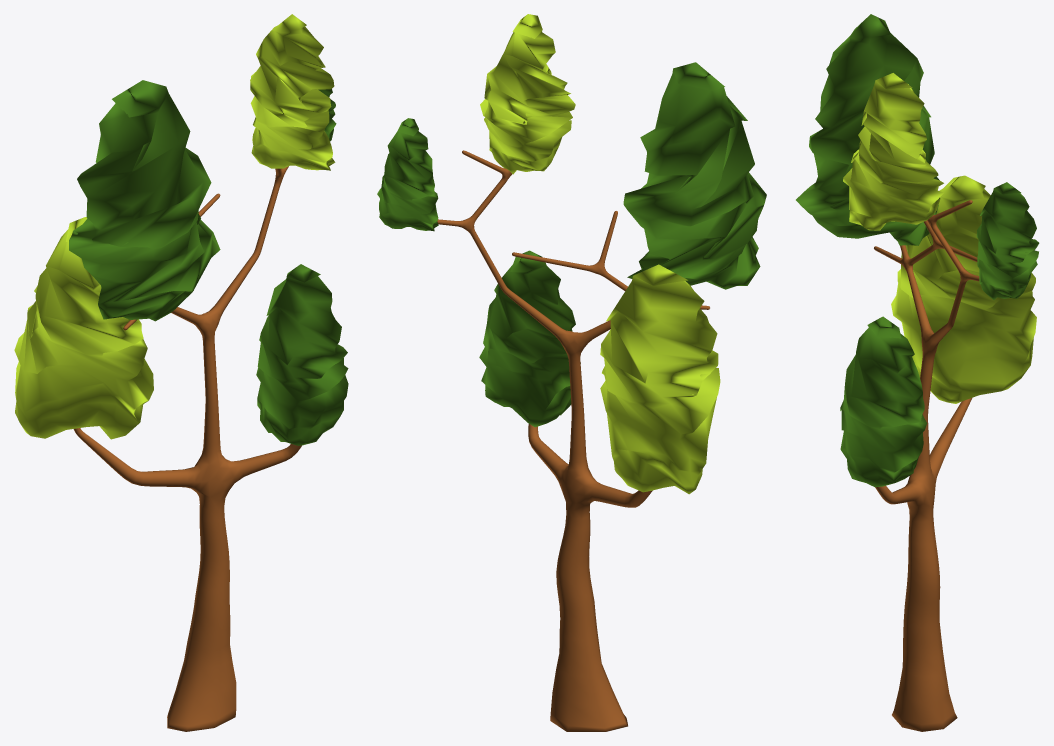
The model's file is Tree2.obj.
The picture shows the model from 3 angles, left to right: view 1: azimuth 30°, elevation 25°; view 2: azimuth 150°, elevation 25°; view 3: azimuth 270°, elevation 25°; orthographic projection. The views are drawn at different scales.
Bounding box in the file's own units: 6.25 × 12.86 × 4.18.
